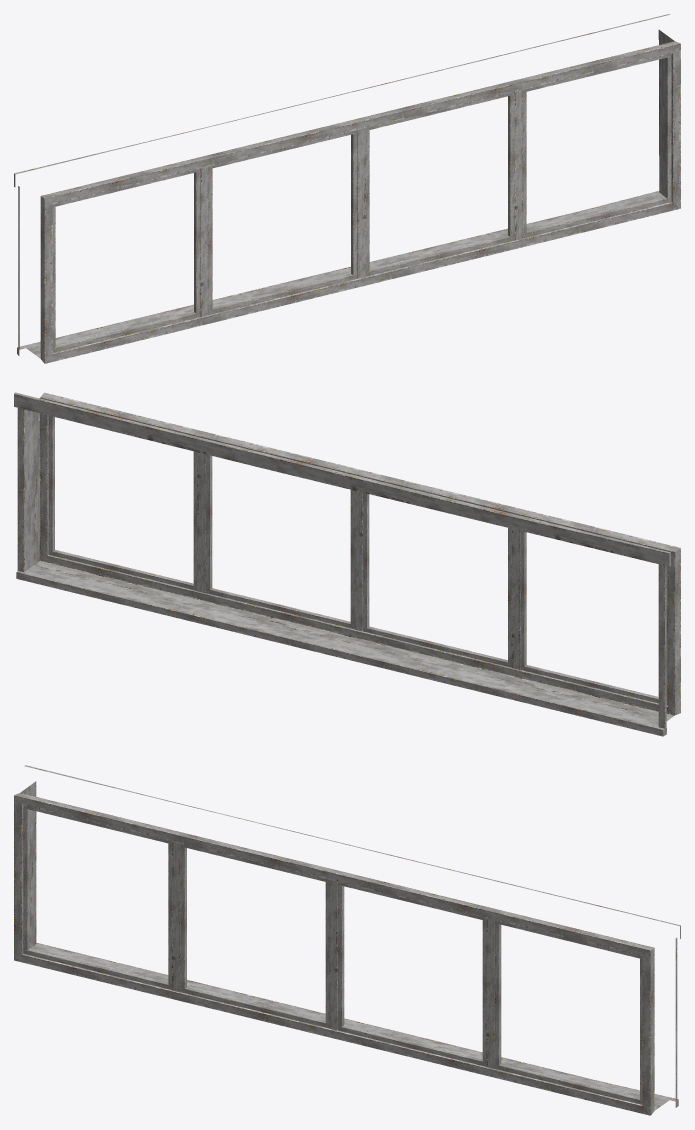
The model's file is window_regular_flat_broken_a.glb.
3 renders of one model, top to bottom at view 1: azimuth 30°, elevation 25°; view 2: azimuth 150°, elevation 25°; view 3: azimuth 330°, elevation 25°, orthographic.
Parts seen in each view (by area): view 1: window_regular_flat_broken_a; view 2: window_regular_flat_broken_a; view 3: window_regular_flat_broken_a.
Boxes of the visible parts, x1,y1,x2,y2 form: window_regular_flat_broken_a: [14, 14, 680, 363]; window_regular_flat_broken_a: [14, 392, 680, 736]; window_regular_flat_broken_a: [14, 765, 680, 1115].
Size of the model in its own units: 6.44 by 1.72 by 0.3879.
1 material, 1 textured.
